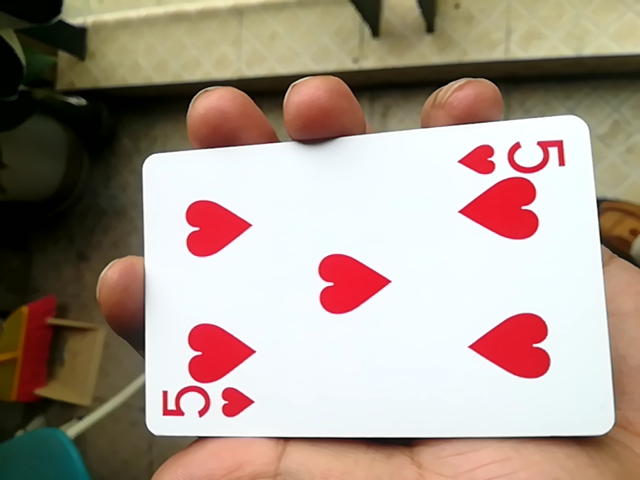hx 5: (131, 119, 606, 448)
